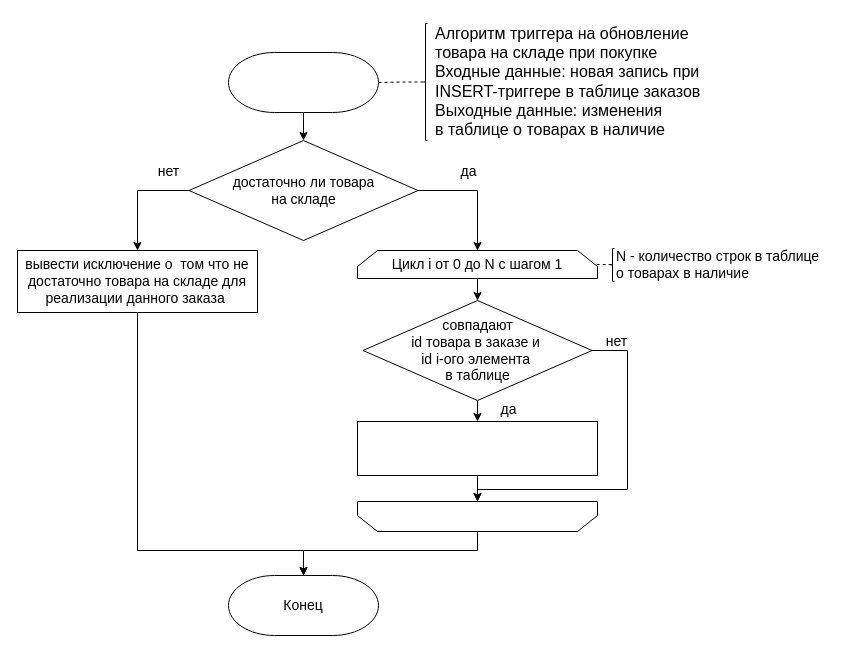
The diagram is 853 pixels wide and 653 high, and some of its shapes have lost their labels. Each missing label, with the box of its shape:
количество i-ого элемента -= количество соответствующего товара в заказе: (356, 420, 598, 476)
Конец цикла по i: (356, 500, 598, 532)
Начало: (228, 52, 378, 112)
